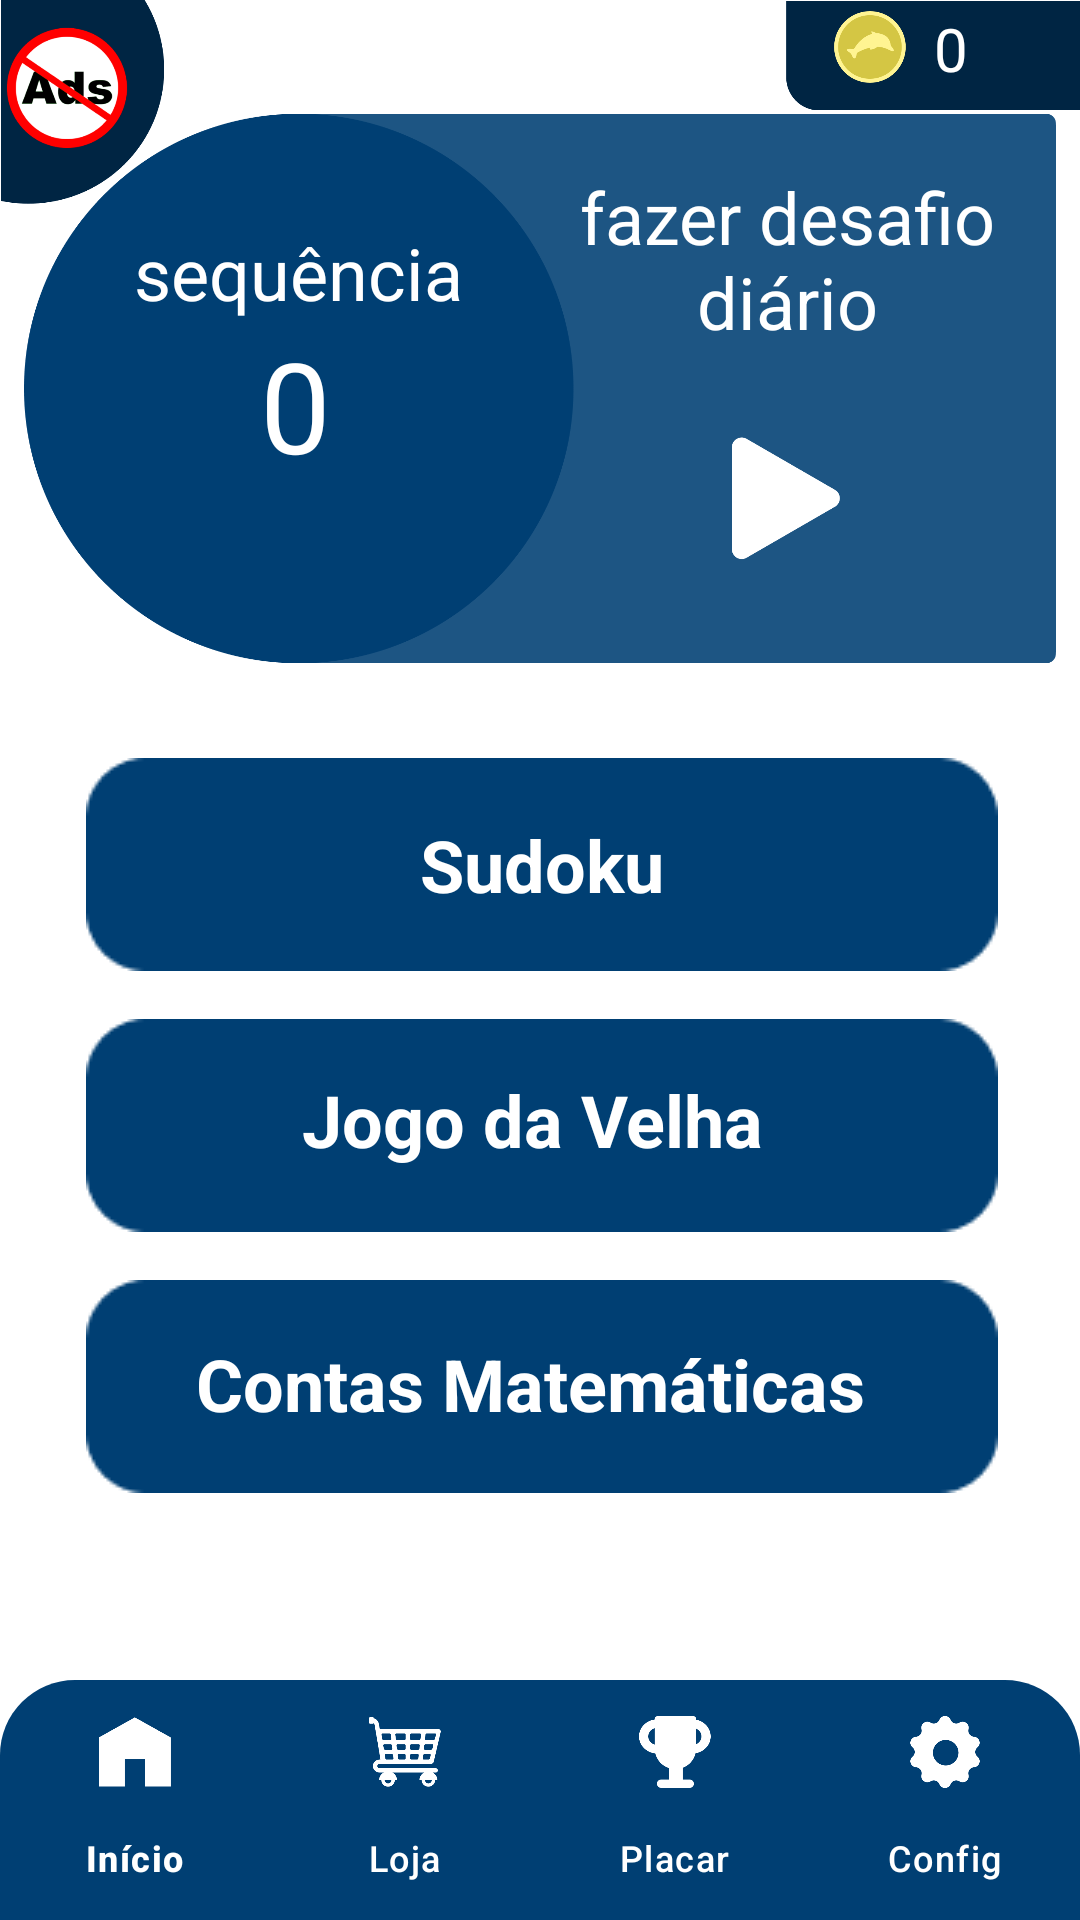

Icon bounding boxes for this 1080px×1920px phone screenshot, format (x1, y1, x2, y2):
adsblock: (1, 0, 164, 204)
playbutton: (732, 437, 840, 559)
